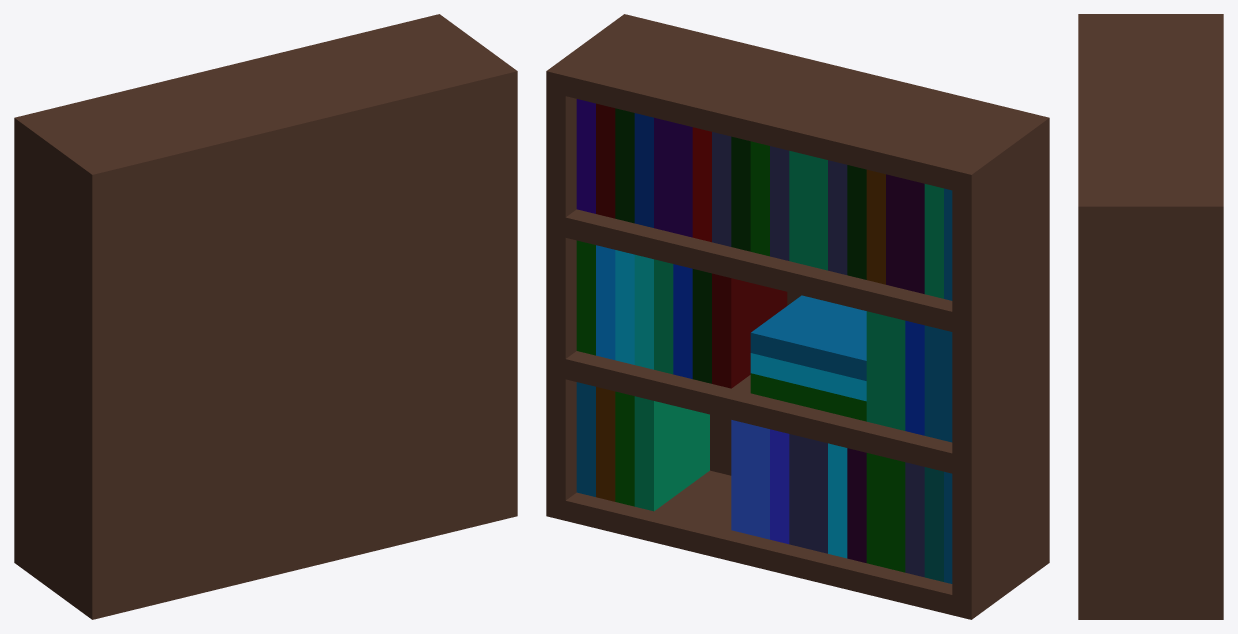
Rendered from bookshelf.obj.
The picture shows the model from 3 angles, left to right: view 1: azimuth 30°, elevation 25°; view 2: azimuth 150°, elevation 25°; view 3: azimuth 270°, elevation 25°; orthographic projection. The views are drawn at different scales.
Size of the model in its own units: 2.2 by 2.2 by 0.7.
1 material, 1 textured.
